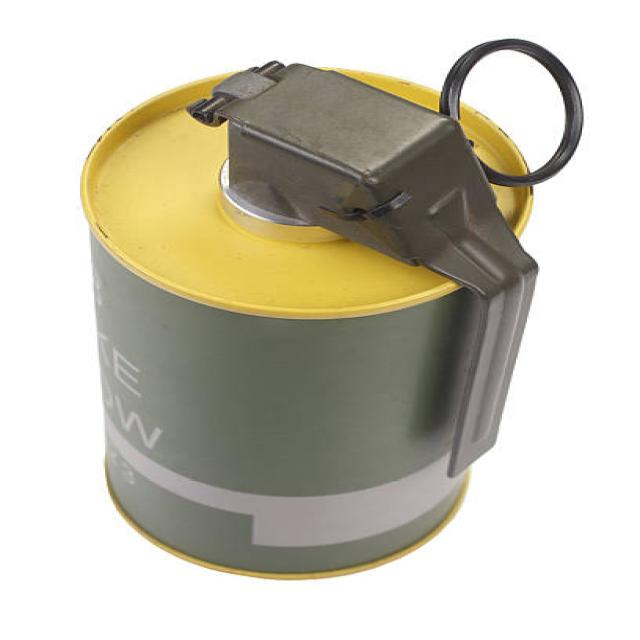grenade: (70, 38, 599, 590)
